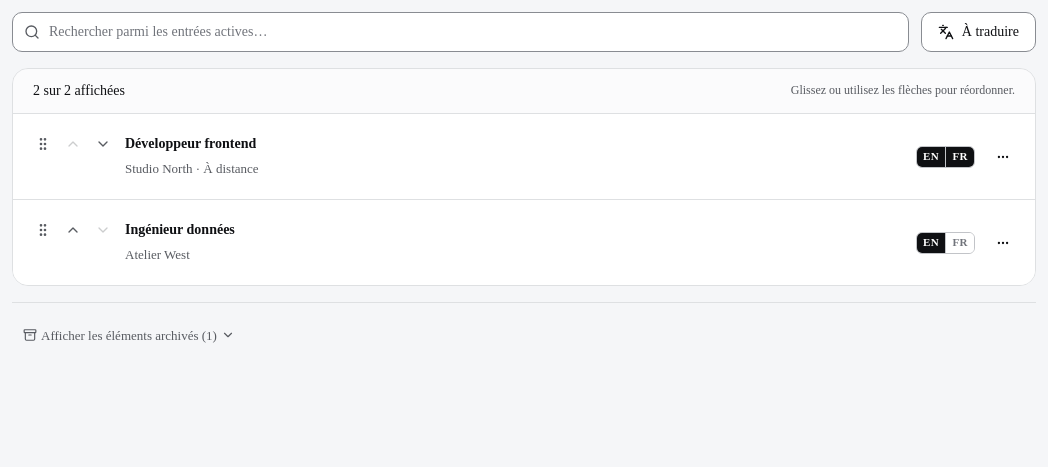
Test: career record discovery › keeps archive access explicit and provides the translated filter in French
This screenshot has width=1048, height=467.
Check: the button "À traduire" is shown, box [921,12,1036,52]
What coordinates should you click on to do the following:
click the button "Afficher les éléments archivés (1)"
I would click on:
 (129, 335)
Its box is [12,319,246,351].
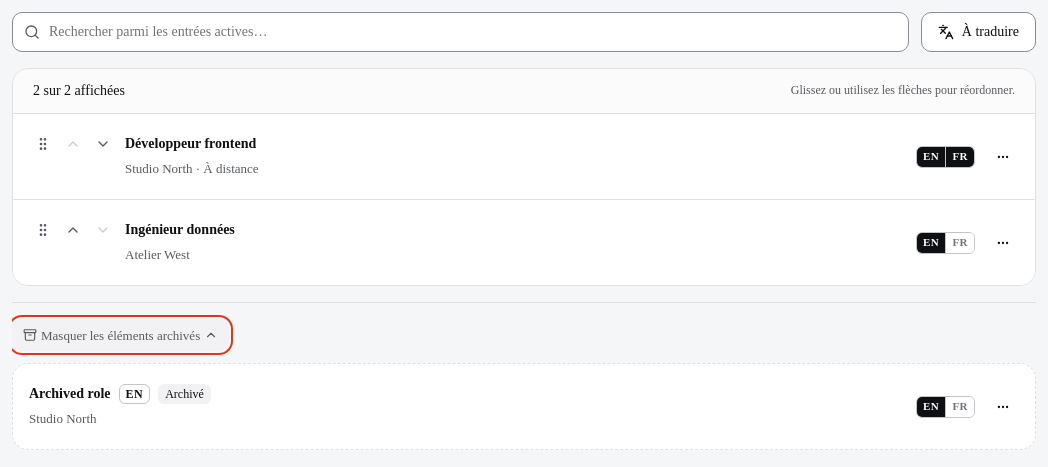
Check: the link "Archived role EN Archivé Studio North" is shown, box [29,384,211,426]
Check: the button named "Afficher les éléments archivés" is expanded, box [12,319,229,351]
